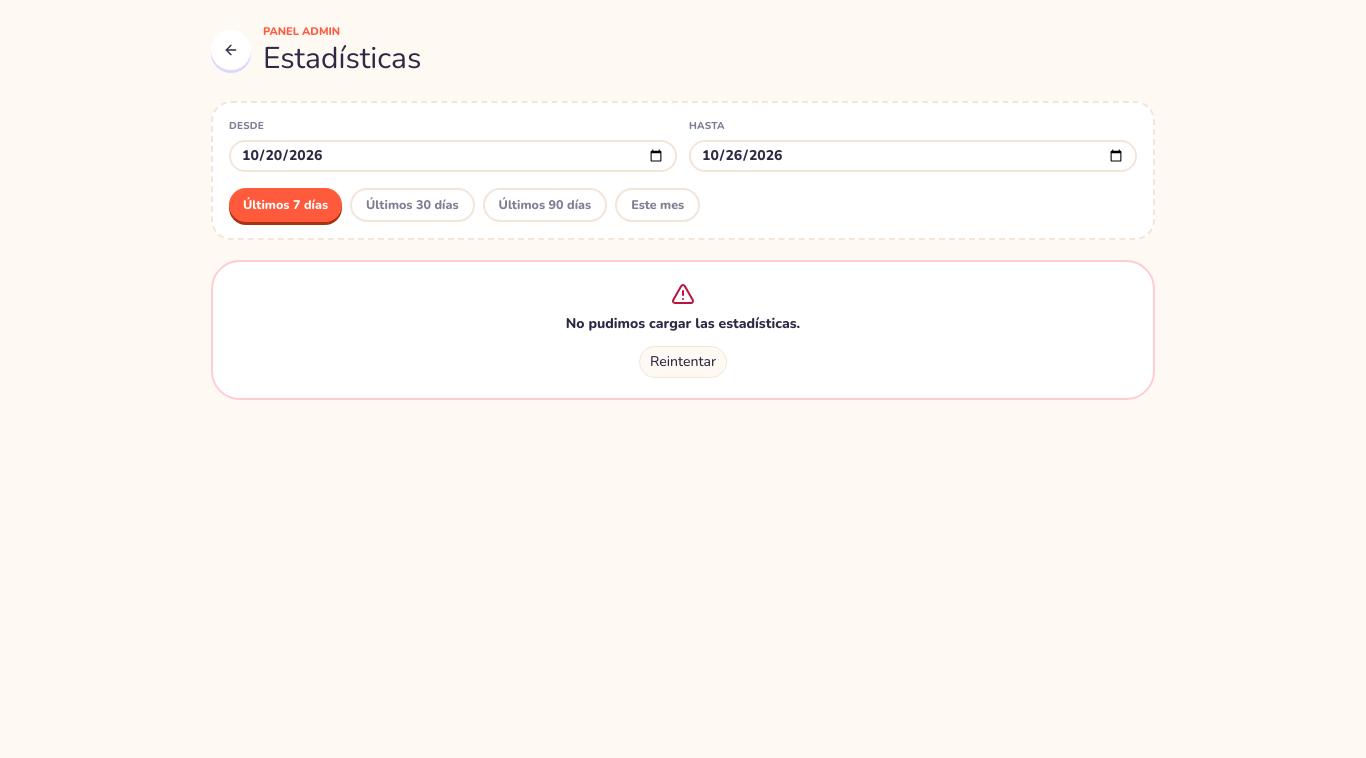
Test case: StatisticsPage range filtering › surfaces API failures and allows a retry
Expected: the message shows "No pudimos cargar las estadísticas.", [566,314,800,333]
Click the button "Reintentar": (683, 362) [639,346,727,378]
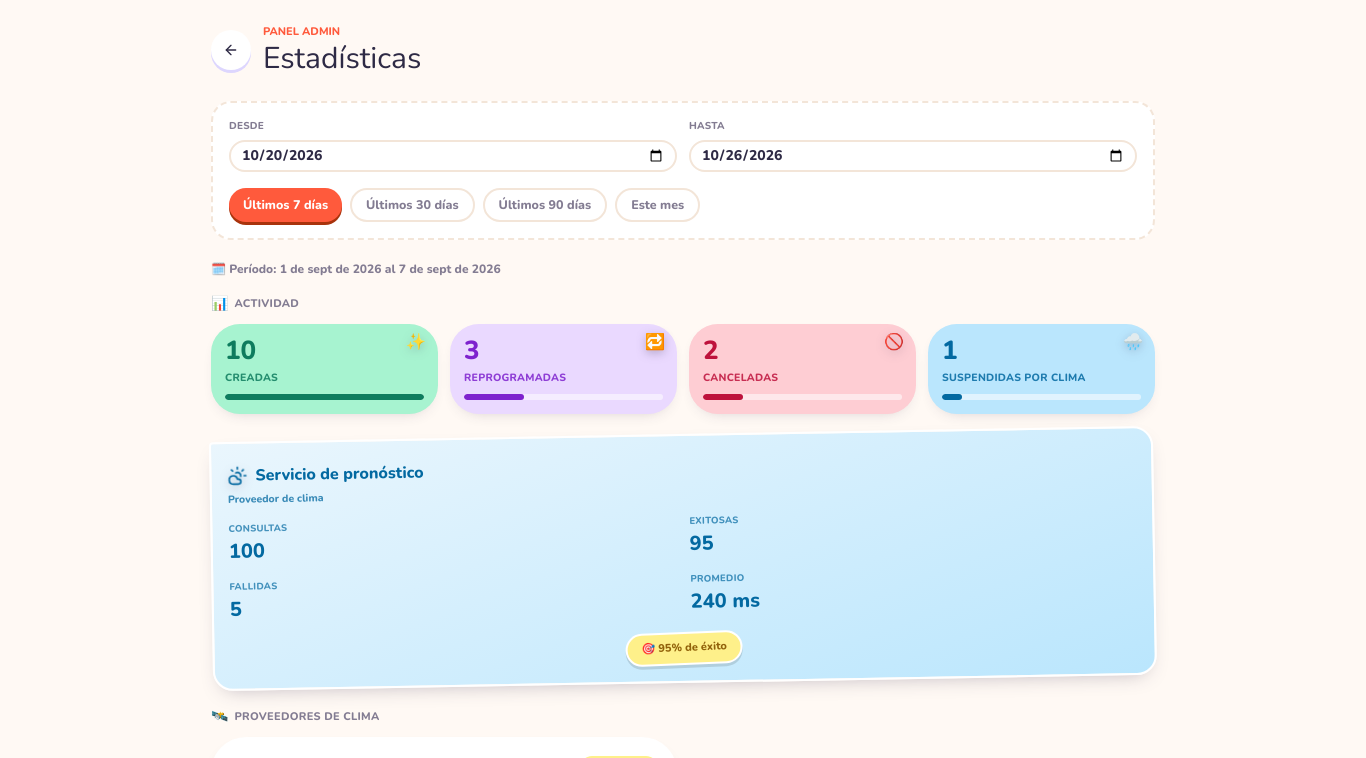
Expected: the text "Creadas" is shown, [225,370,278,385]
